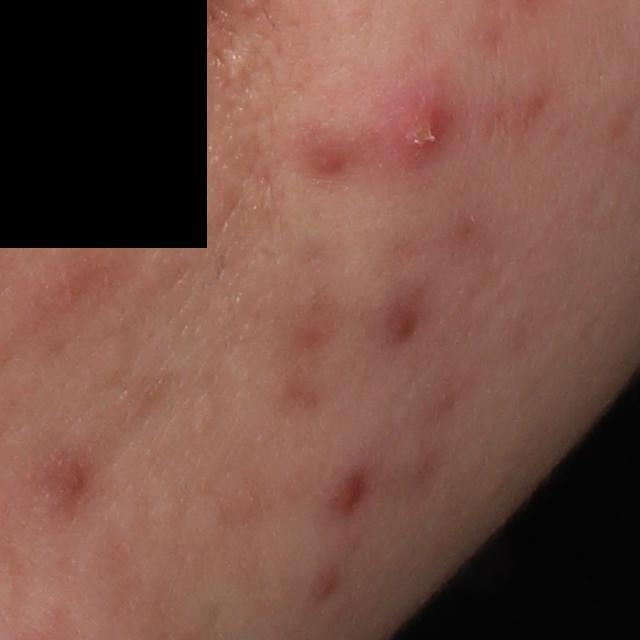papule: (390, 98, 449, 165), (326, 468, 368, 519), (376, 302, 420, 348)
